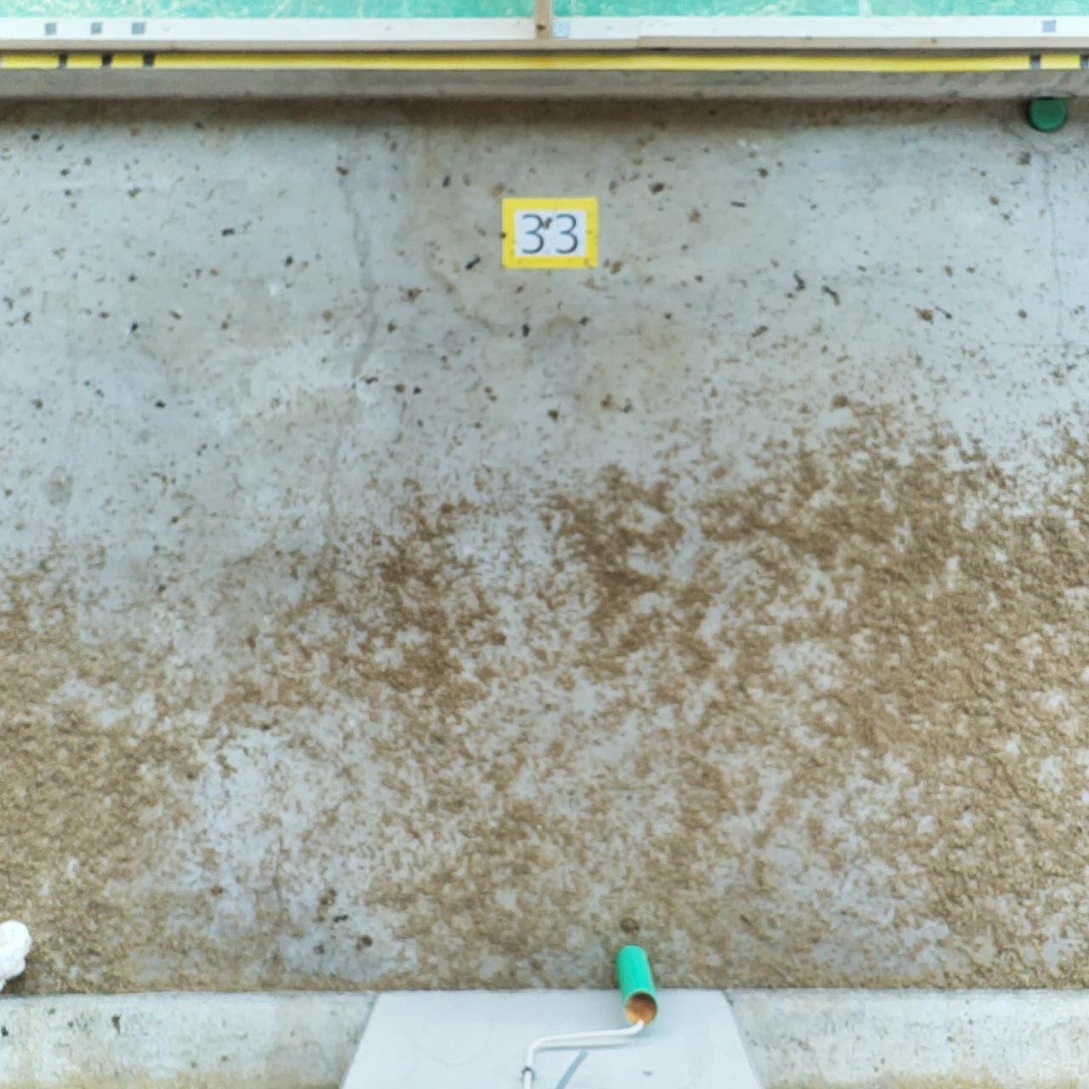chicken: (1, 915, 47, 987)
